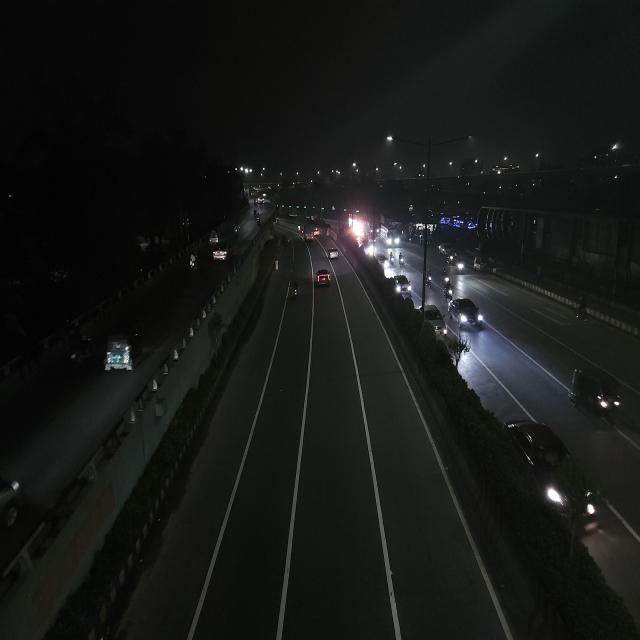bicycle: (574, 294, 590, 324)
bus: (382, 224, 402, 248)
car: (497, 407, 604, 540), (448, 293, 486, 332), (414, 300, 448, 339), (388, 272, 414, 297), (211, 243, 231, 263), (316, 268, 332, 286), (327, 245, 339, 262), (439, 242, 452, 256)
cng: (566, 363, 626, 428), (103, 318, 145, 378), (472, 253, 486, 274)
motorcycle: (441, 274, 454, 300), (422, 268, 434, 292), (440, 268, 452, 292), (452, 254, 466, 274), (188, 249, 198, 272), (396, 252, 406, 274), (232, 221, 242, 240), (292, 280, 299, 299), (253, 211, 261, 226), (389, 250, 395, 270)
pedestrian: (275, 259, 279, 272)
truck: (304, 223, 314, 242)
